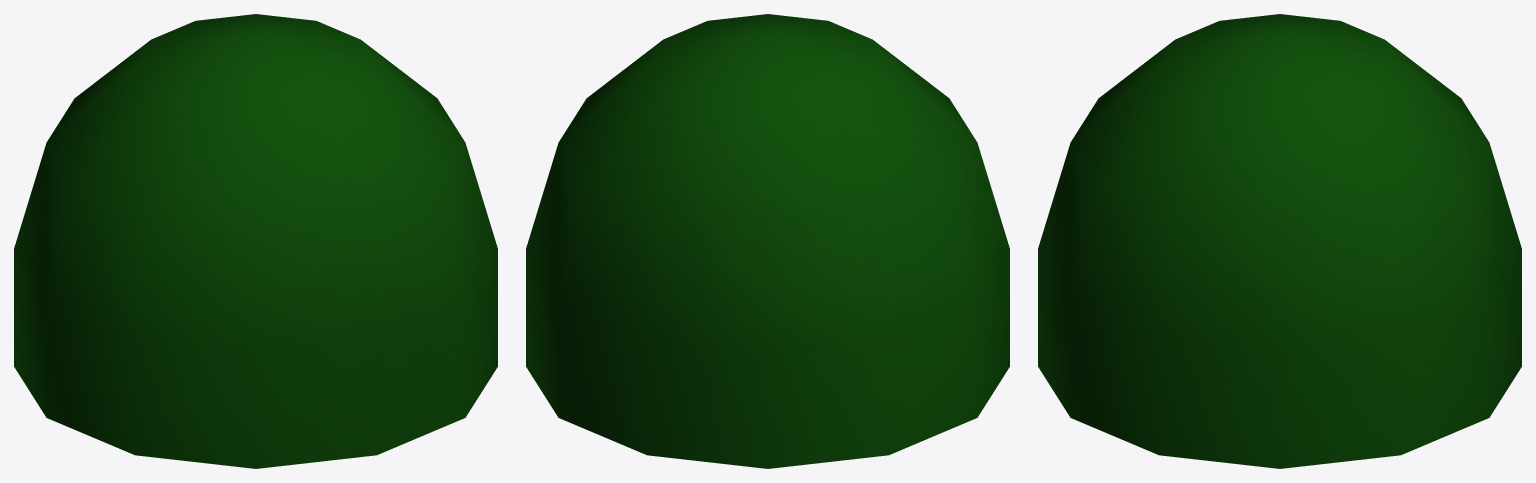
Rendered from Console_Light_Green.fbx.
The picture shows the model from 3 angles, left to right: view 1: azimuth 30°, elevation 25°; view 2: azimuth 150°, elevation 25°; view 3: azimuth 270°, elevation 25°; orthographic projection.
Parts seen in each view (by area): view 1: Console_Light_Green; view 2: Console_Light_Green; view 3: Console_Light_Green.
Part boxes in pixels (x1,y1,x2,y2): Console_Light_Green: [14, 14, 497, 468]; Console_Light_Green: [526, 14, 1009, 468]; Console_Light_Green: [1038, 14, 1521, 468].
Bounding box in the file's own units: 2.36 × 1.77 × 2.36.
